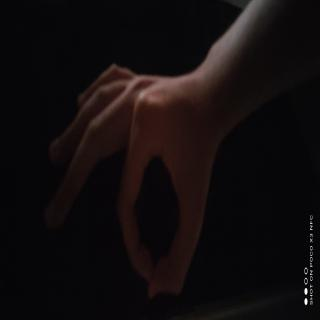Space: (9, 112, 121, 320)
